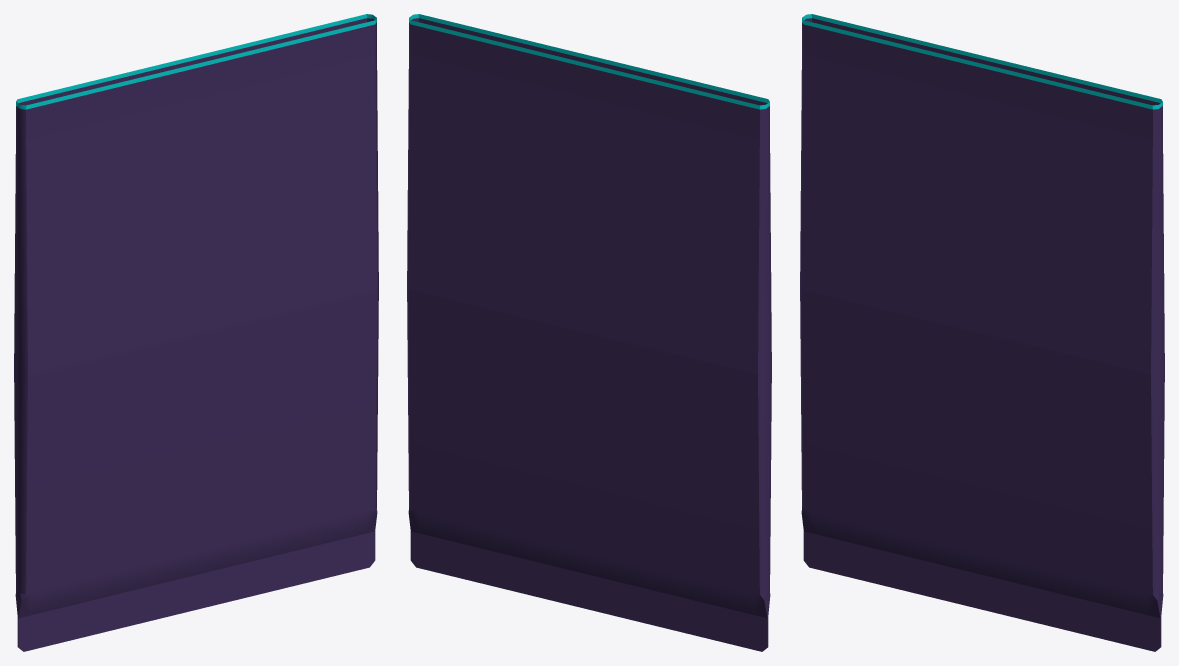
Rendered from Pack_Opened.fbx.
3 views of the same model, side by side, from view 1: azimuth 30°, elevation 25°; view 2: azimuth 150°, elevation 25°; view 3: azimuth 330°, elevation 25° (orthographic).
Parts seen in each view (by area): view 1: OpenPack_Bottom; view 2: OpenPack_Bottom; view 3: OpenPack_Bottom.
Part boxes in pixels (left/top/right/bottom): OpenPack_Bottom: left=14, top=14, right=378, bottom=651; OpenPack_Bottom: left=407, top=14, right=771, bottom=651; OpenPack_Bottom: left=800, top=14, right=1164, bottom=651.
Size of the model in its own units: 67 by 98.67 by 4.04.
